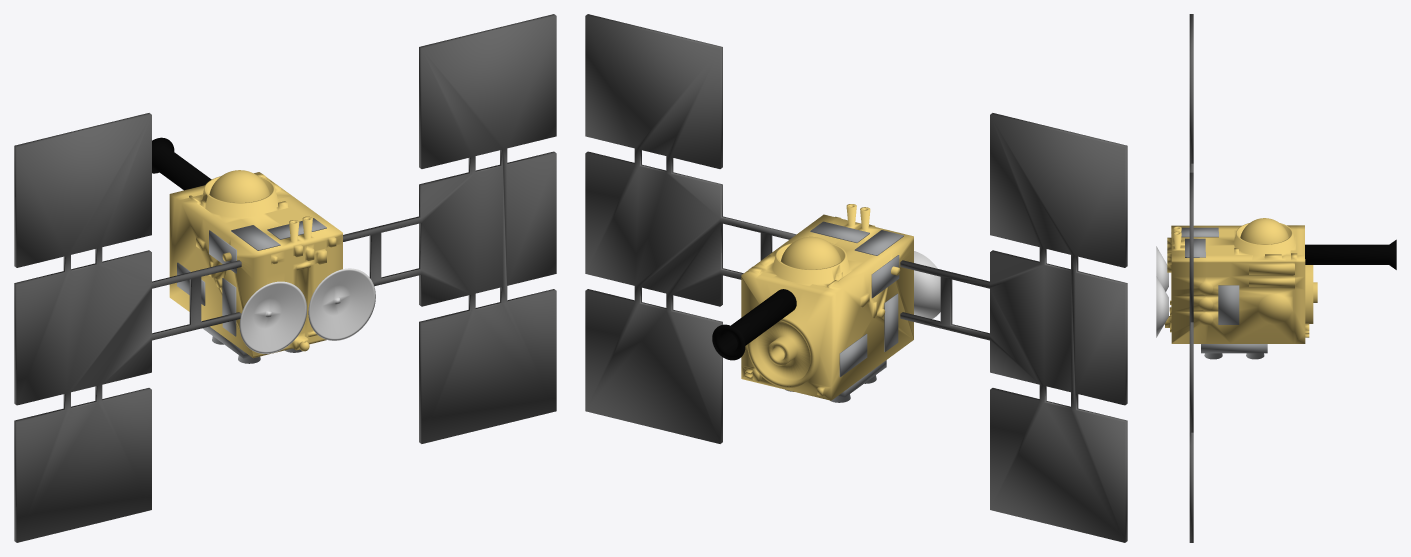
The model's file is Hayabusa2.glb.
The picture shows the model from 3 angles, left to right: view 1: azimuth 30°, elevation 25°; view 2: azimuth 150°, elevation 25°; view 3: azimuth 270°, elevation 25°; orthographic projection. The views are drawn at different scales.
Parts seen in each view (by area): view 1: _____; view 2: _____; view 3: _____.
Part boxes in pixels (left/top/right/bottom): _____: left=14, top=14, right=556, bottom=542; _____: left=585, top=14, right=1127, bottom=542; _____: left=1156, top=14, right=1396, bottom=542.
Size of the model in its own units: 0.6 by 0.42 by 0.288.
